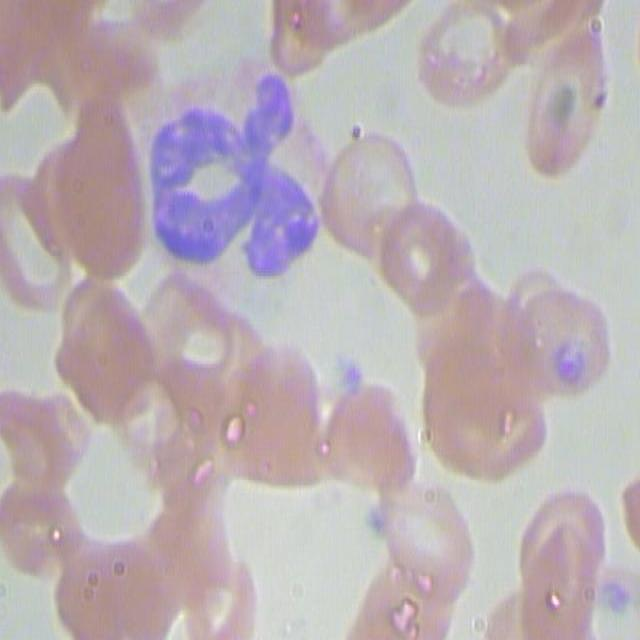RBC: (325, 128, 460, 289), (434, 295, 545, 480), (390, 212, 513, 362), (53, 97, 148, 286), (1, 4, 150, 110), (142, 507, 259, 640), (122, 371, 226, 507), (54, 295, 163, 423), (217, 354, 321, 486), (522, 44, 622, 177), (154, 279, 257, 406), (383, 476, 487, 596), (410, 0, 521, 111), (0, 384, 105, 495), (522, 495, 602, 640), (60, 541, 175, 640), (2, 162, 76, 312), (485, 3, 611, 80), (252, 3, 399, 69), (0, 468, 89, 570), (355, 563, 470, 640), (325, 395, 411, 497), (490, 579, 555, 640), (138, 0, 198, 56)
WBC: (137, 72, 326, 289)
platelets: (594, 566, 640, 621), (558, 347, 587, 391), (339, 363, 367, 398), (366, 509, 391, 538)
